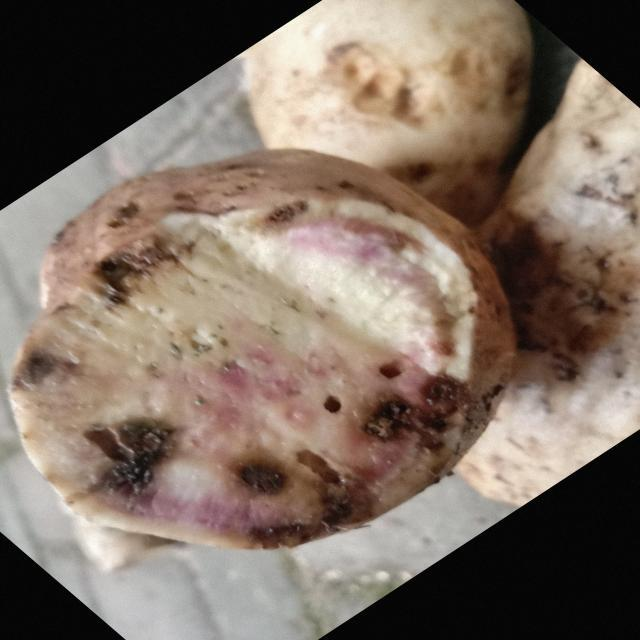Sick Sweet Potato_Tuber Rot: (12, 200, 503, 549)
